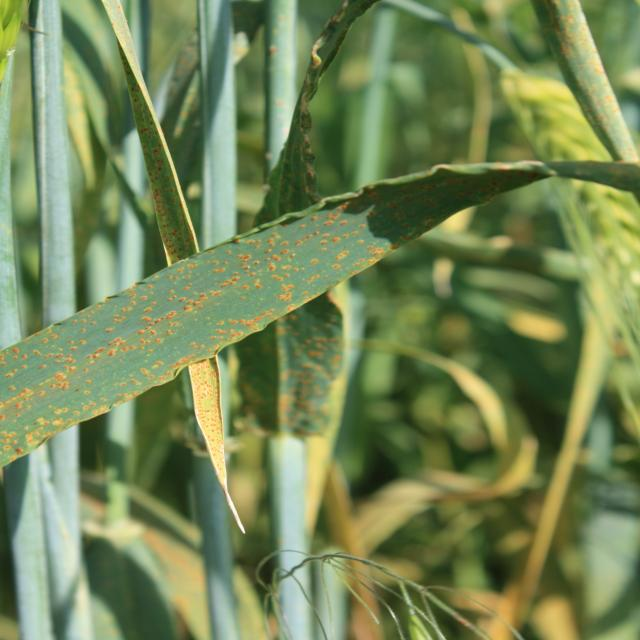leaf rust: (165, 207, 464, 639), (1, 0, 161, 111)
